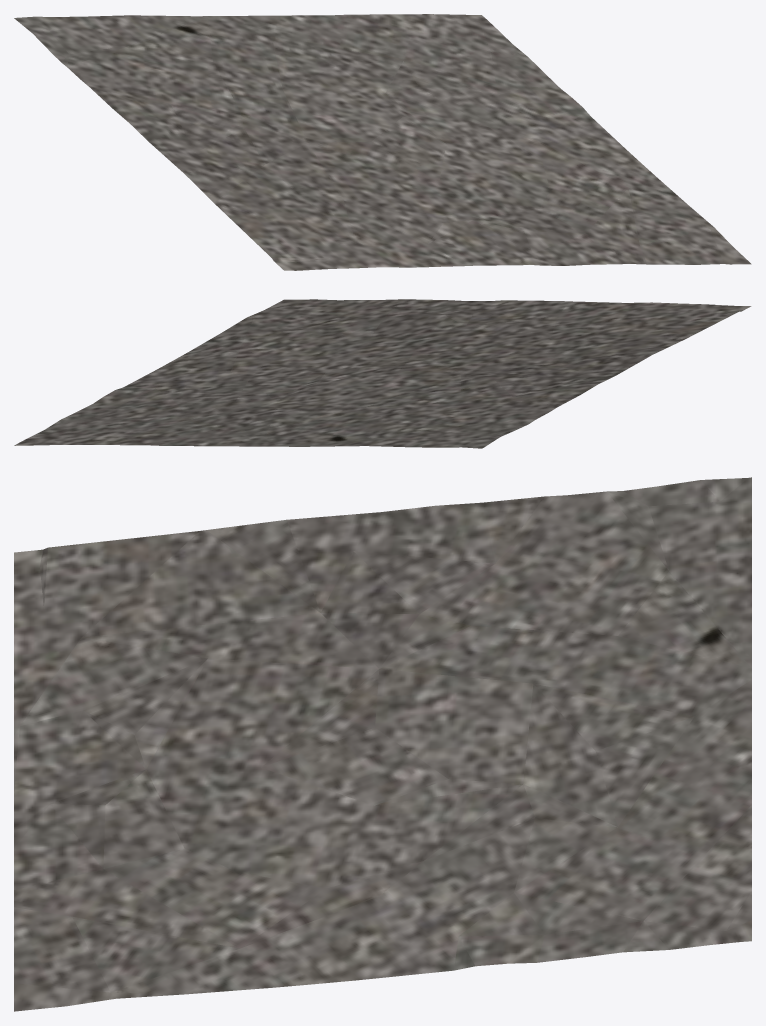
3 views of the same model, one above another, from view 1: azimuth 30°, elevation 25°; view 2: azimuth 150°, elevation 25°; view 3: azimuth 270°, elevation 25° (orthographic). The views are drawn at different scales.
Bounding box in the file's own units: 0.8373 × 0.2784 × 0.8374.
Materials: 3 (3 with a texture image).
